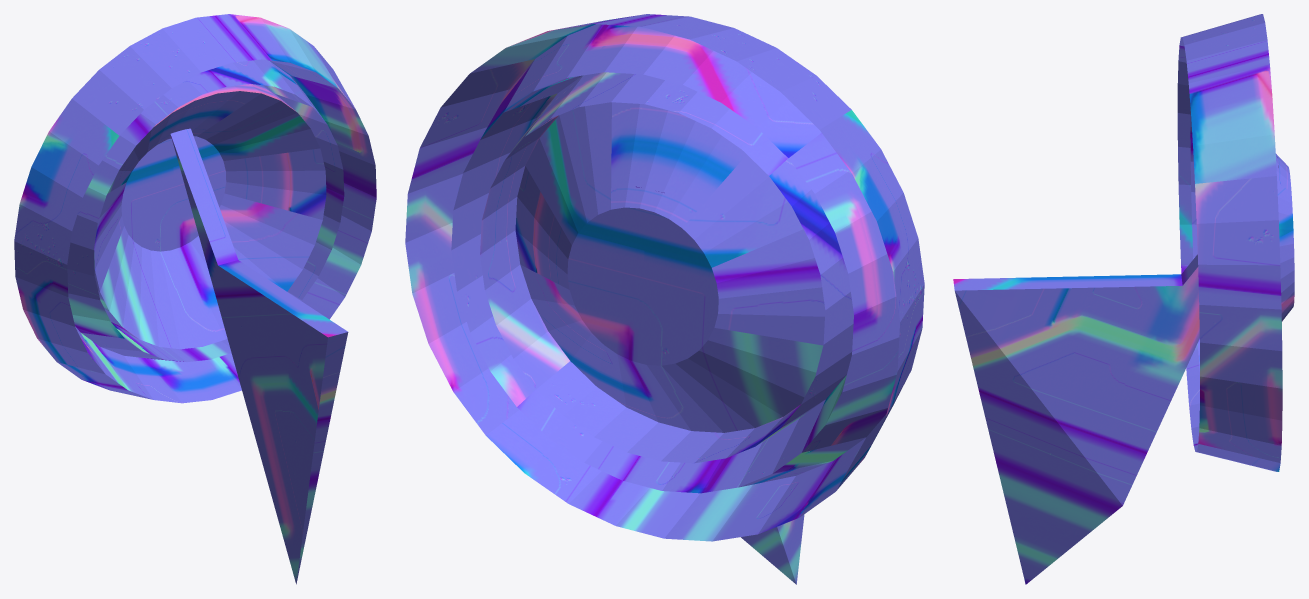
File: radar1.obj
The picture shows the model from 3 angles, left to right: view 1: azimuth 30°, elevation 25°; view 2: azimuth 150°, elevation 25°; view 3: azimuth 270°, elevation 25°; orthographic projection. The views are drawn at different scales.
Visible parts, largest first — view 1: radar; view 2: radar; view 3: radar.
Part boxes in pixels (box(x1,y1,x2,y2)): radar: box(14, 14, 376, 584); radar: box(405, 14, 924, 584); radar: box(953, 14, 1294, 584).
Size of the model in its own units: 0.9865 by 1.3 by 0.7334.
